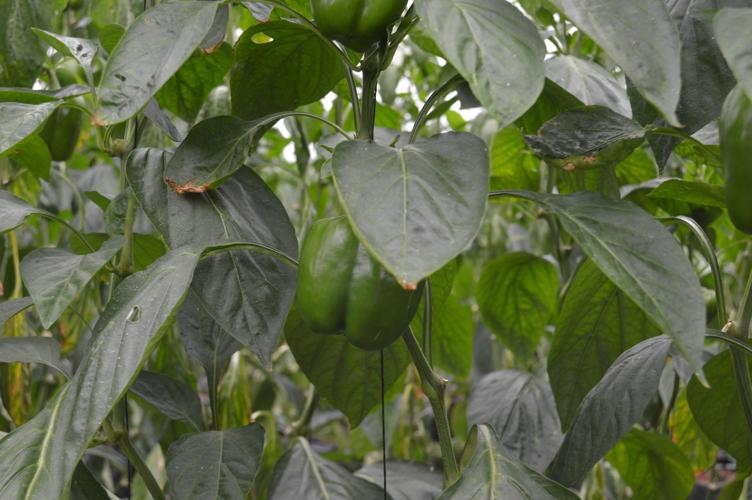BellPepper: (295, 216, 423, 345)
